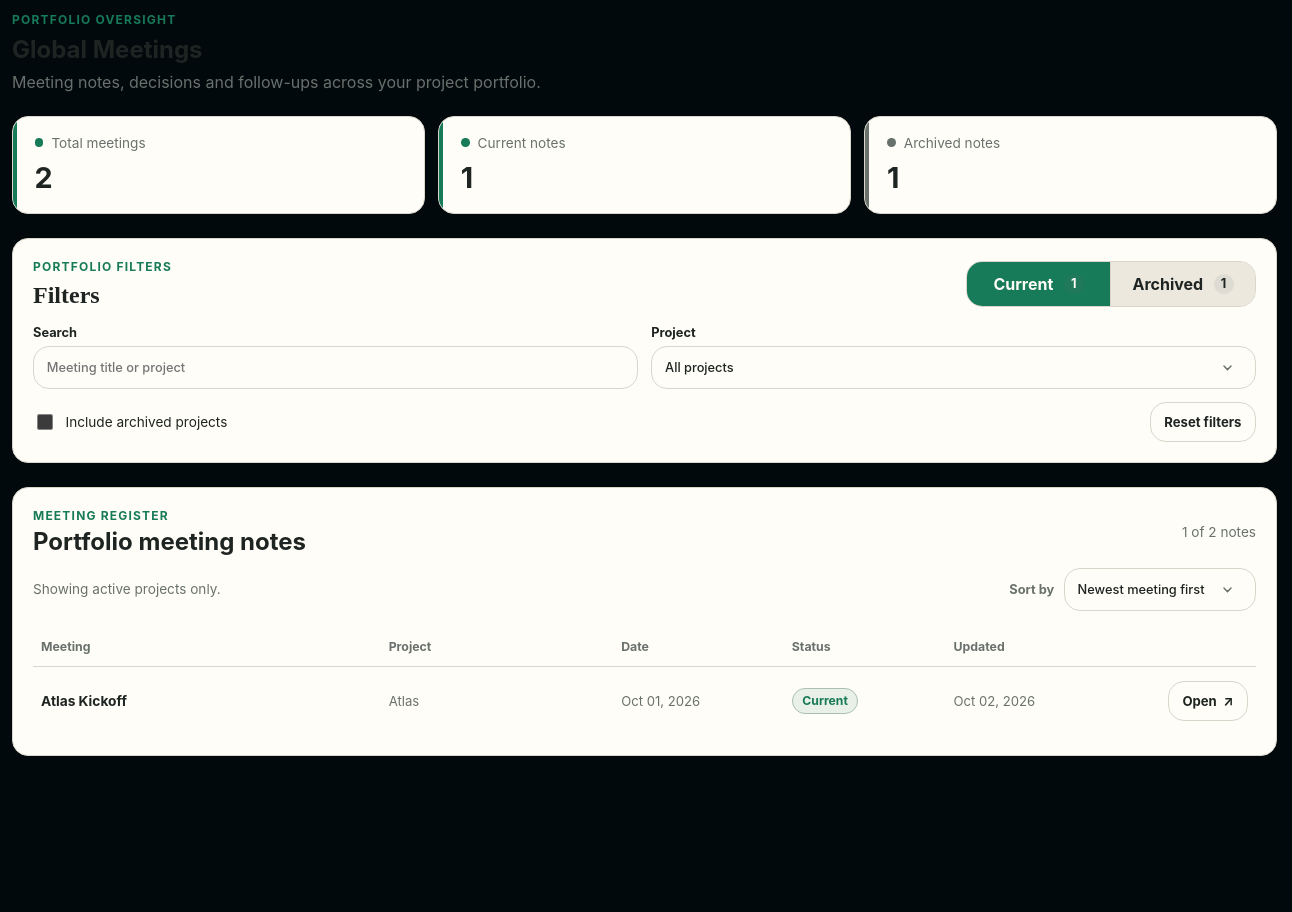
GlobalMeetingsPage › combines project archival and note lifecycle independently
Click the checkbox labelled "Include archived projects" at coordinates (45, 422), box [37,414,53,430]
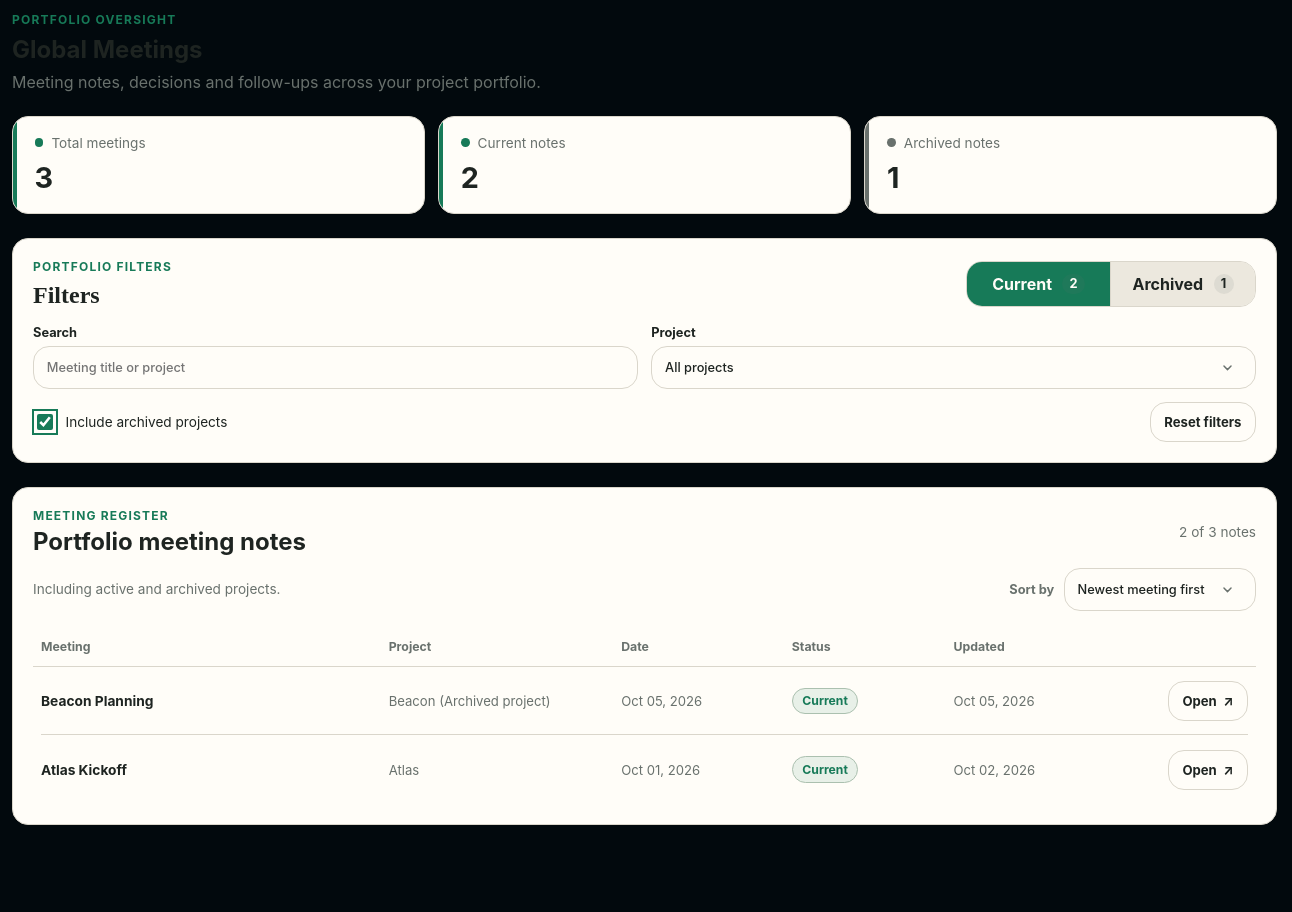
Expected: the text "Beacon Planning" is shown, [41,693,154,709]
Click the button "Archived 1" at coordinates (1183, 284), box [1111,262,1255,306]
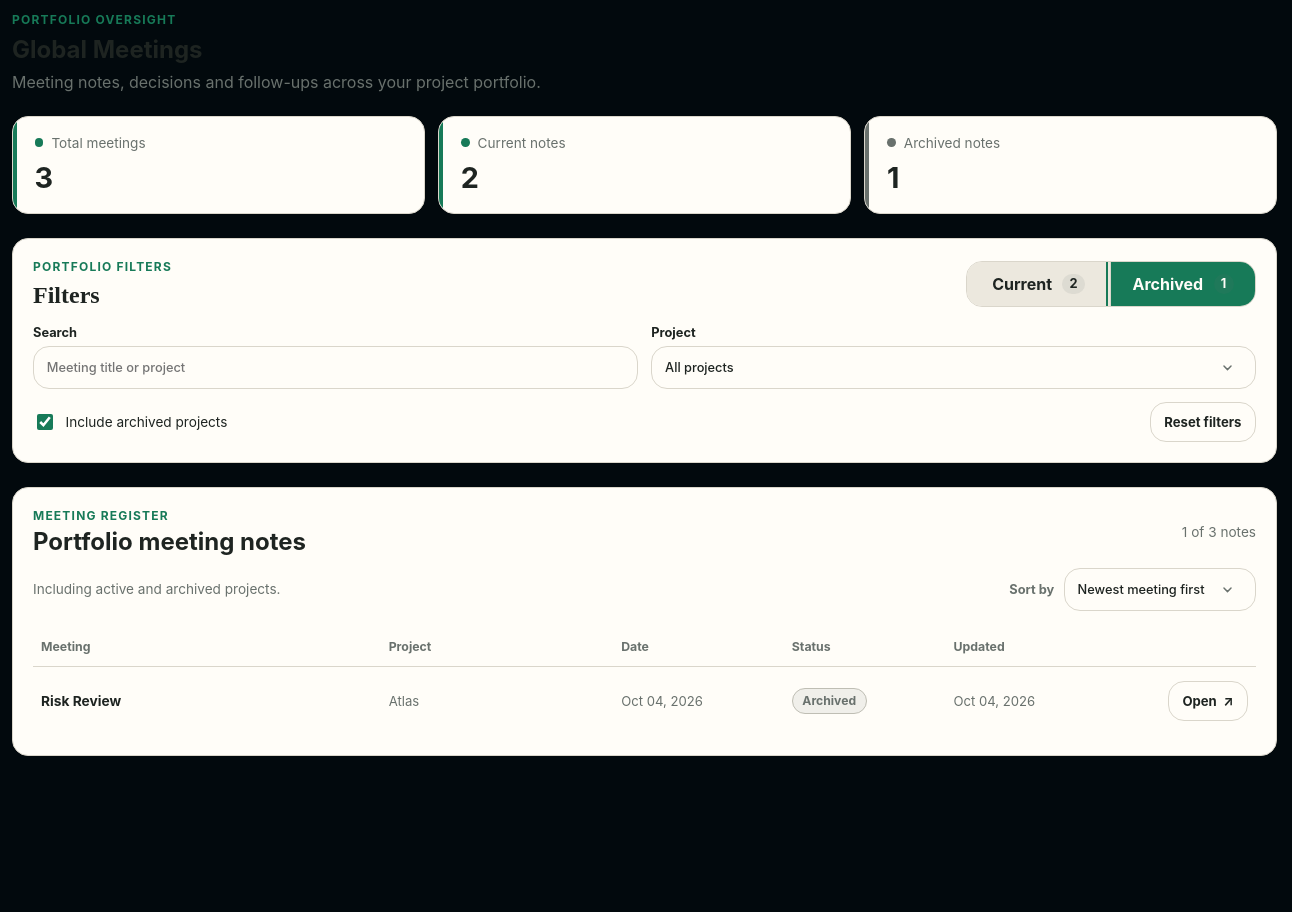
Expected: the text "Risk Review" is shown, [41,693,121,709]
Expected: the text "Atlas Kickoff" is gone
Expected: the text "Beacon Planning" is gone
Select "Beacon (Archived)" in the dropdown labelled "Project" at coordinates (954, 367), box [651,346,1256,389]
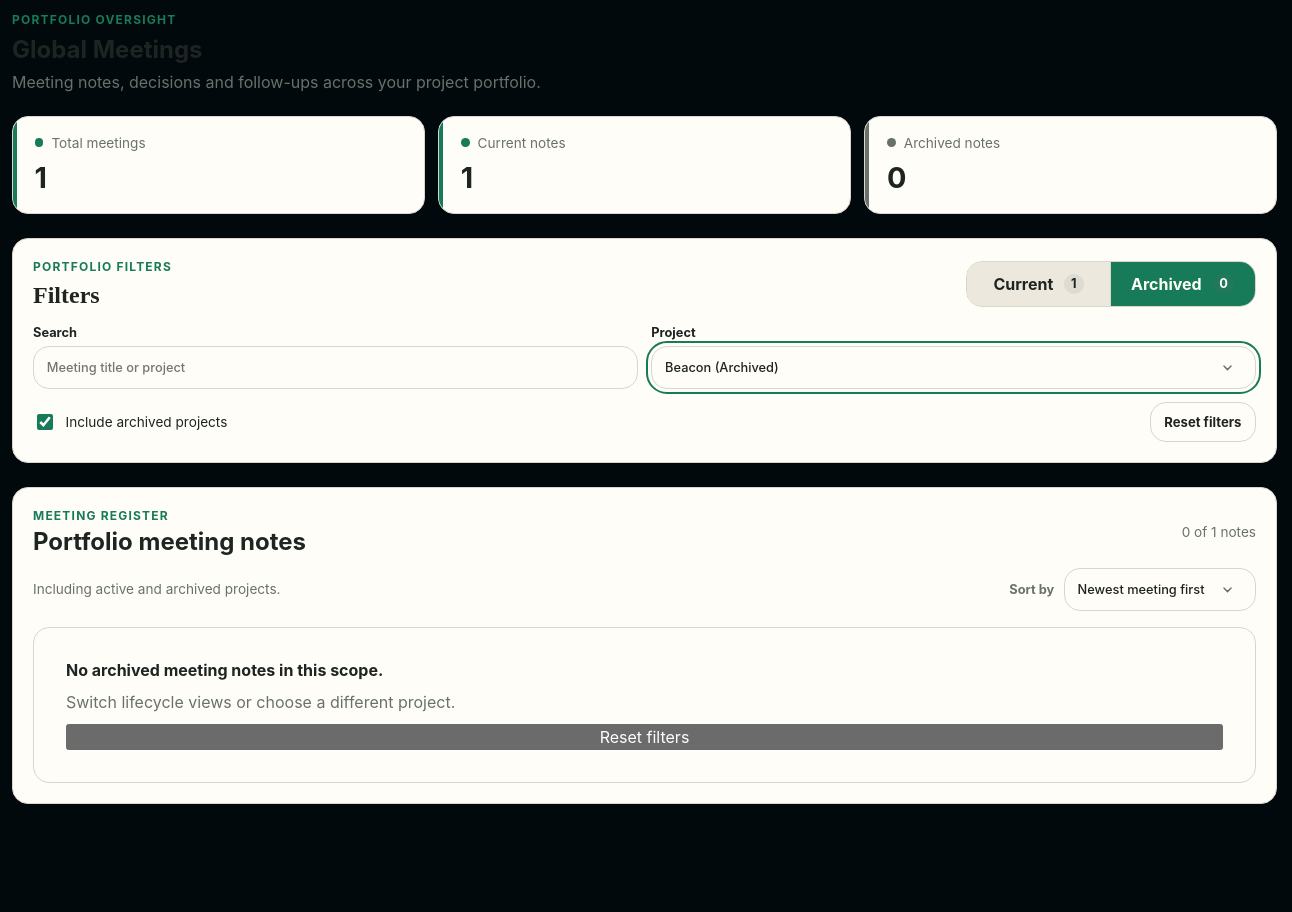
Expected: the text "No archived meeting notes in this scope." is shown, [66,660,383,680]
